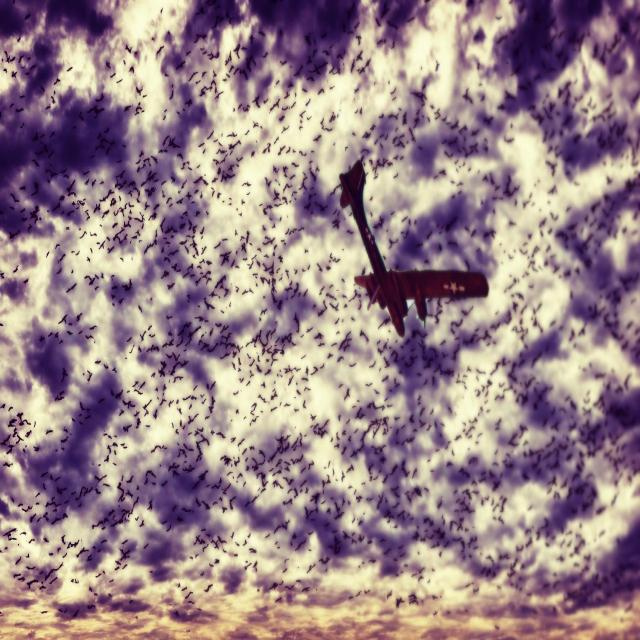airplane: (338, 158, 489, 337)
